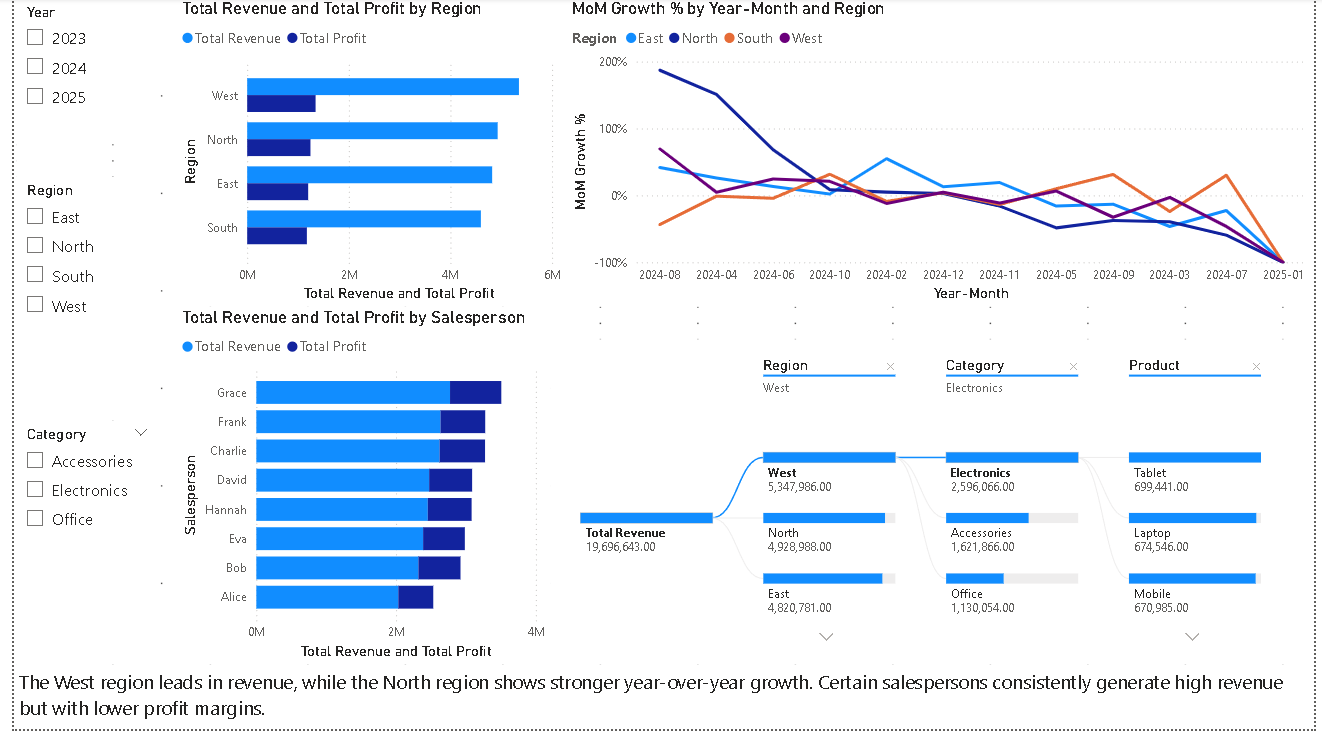

The page's visual inventory and layout, read from the dashboard file:
{"tool":"powerbi","page":{"name":"Regional & Salesperson Analysis","canvas":[1280,720],"ordinal":2},"visuals":[{"type":"slicer","fields":{"Values":["Dim_Date.Year"]},"box":[0,0,144,144],"z":0},{"type":"slicer","fields":{"Values":["Dim_Region.Region"]},"box":[0,176,144,240],"z":1000},{"type":"slicer","fields":{"Values":["Fact_Sales.Category"]},"box":[0,416,144,240],"z":2000},{"type":"clusteredBarChart","fields":{"Category":["Dim_Region.Region"],"Y":["_Measures.Total Revenue","_Measures.Total Profit"]},"box":[160,0,384,304],"z":3000},{"type":"lineChart","fields":{"Category":["Dim_Date.Year-Month"],"Y":["_Measures.MoM Growth %"],"Series":["Dim_Region.Region"]},"box":[544,0,736,304],"z":4000},{"type":"barChart","fields":{"Category":["Dim_Salesperson.Salesperson"],"Y":["_Measures.Total Revenue","_Measures.Total Profit"]},"box":[160,304,368,352],"z":5000},{"type":"decompositionTreeVisual","fields":{"Analyze":["_Measures.Total Revenue"],"ExplainBy":["Dim_Region.Region","Fact_Sales.Category","Dim_Product.Product"]},"box":[528,336,752,320],"z":6000},{"type":"textbox","box":[0,656,1280,64],"z":7000}]}

Visuals, with their boxes in screenshot pixels (x1, y1, x2, y2), scaled from the page's 1280x720 canvas onto the 1322x734 screenshot:
slicer - Dim_Date.Year: l=0, t=0, r=149, b=147
slicer - Dim_Region.Region: l=0, t=179, r=149, b=424
slicer - Fact_Sales.Category: l=0, t=424, r=149, b=669
clusteredBarChart - Dim_Region.Region x _Measures.Total Revenue: l=165, t=0, r=562, b=310
lineChart - Dim_Date.Year-Month x _Measures.MoM Growth %: l=562, t=0, r=1321, b=310
barChart - Dim_Salesperson.Salesperson x _Measures.Total Revenue: l=165, t=310, r=545, b=669
decompositionTreeVisual - _Measures.Total Revenue x Dim_Region.Region: l=545, t=343, r=1321, b=669
textbox: l=0, t=669, r=1321, b=733
